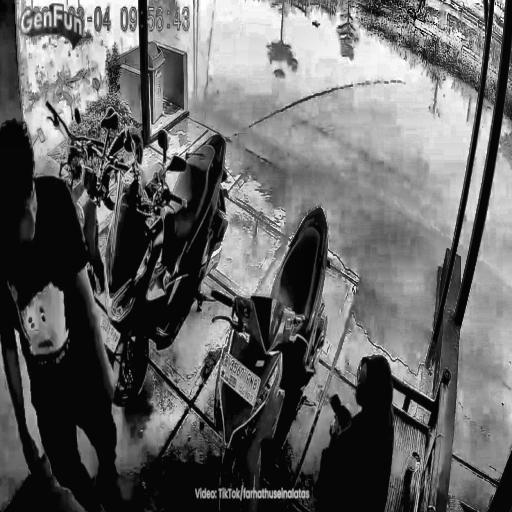banjir: (171, 0, 472, 384), (453, 150, 512, 479)
